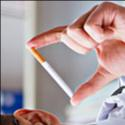Cigarette: (28, 46, 74, 97)
